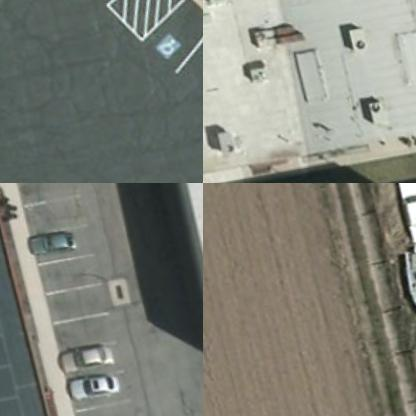boat: (394, 244, 415, 319)
car: (54, 370, 113, 402), (18, 227, 77, 258), (46, 341, 104, 372), (390, 183, 415, 251)
